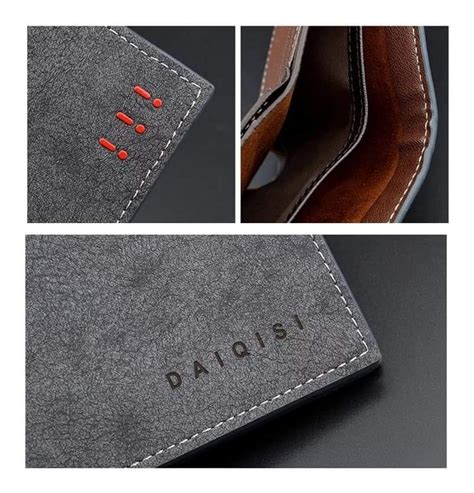gamuza: (28, 25, 382, 467)
